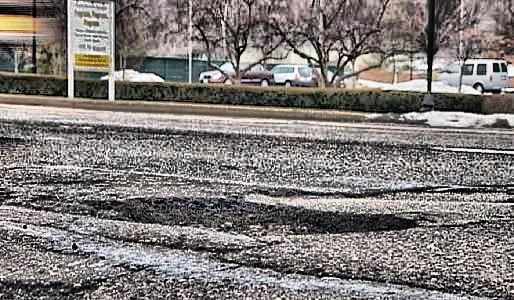pothole: (78, 185, 417, 236), (0, 277, 97, 299)
